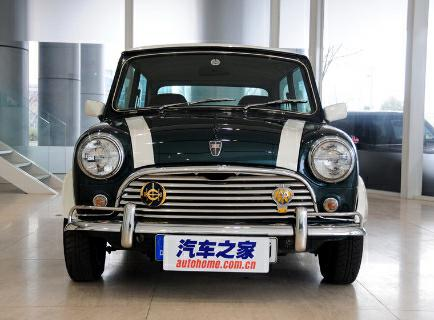MINI: (50, 48, 390, 285), (72, 59, 363, 265)
